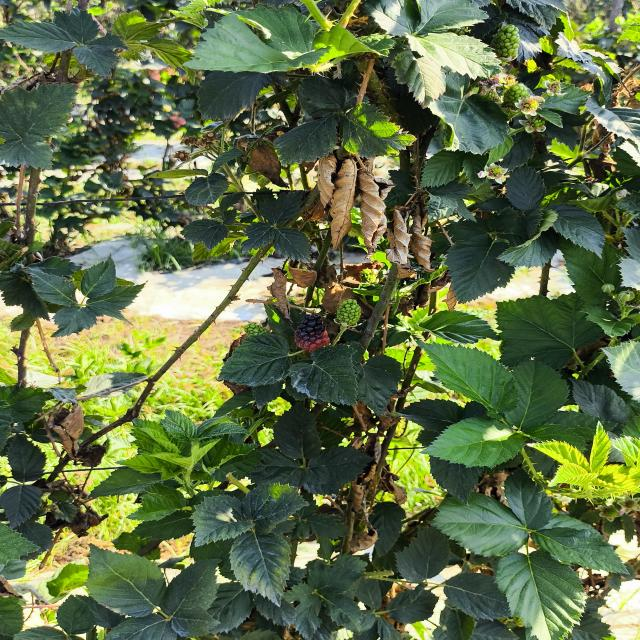marron: (295, 314, 330, 352)
verde: (336, 299, 361, 326)
